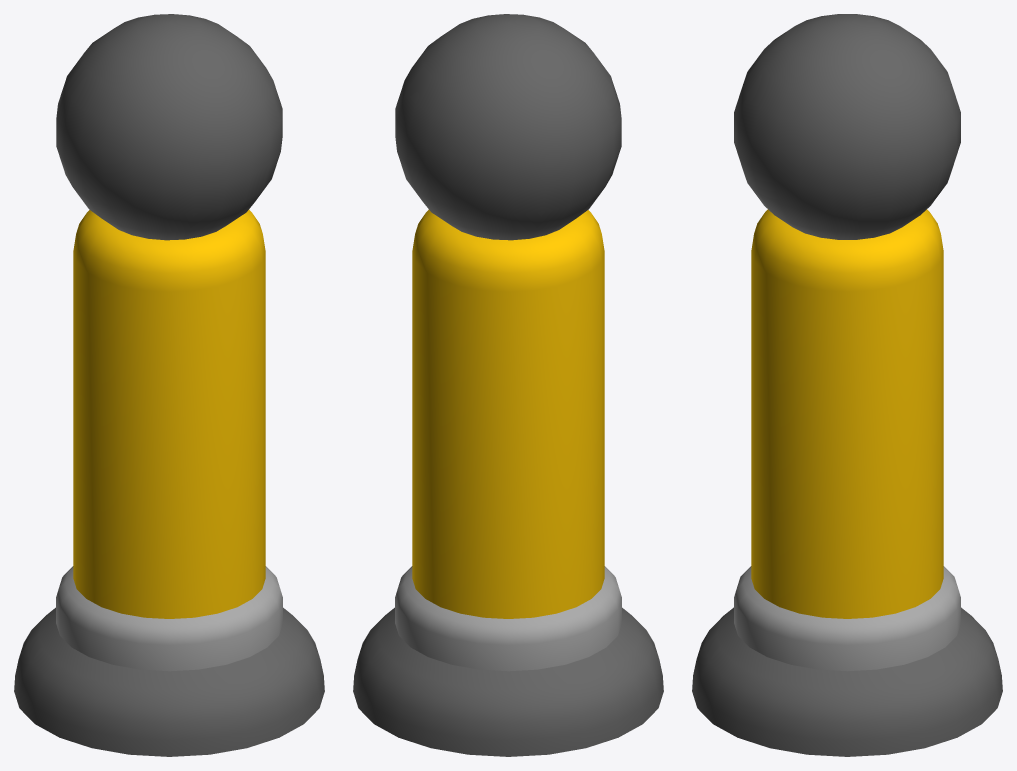
The model's file is DecorMachine_Pastry_MachineSprinkles.FBX.
3 renders of one model, left to right at view 1: azimuth 30°, elevation 25°; view 2: azimuth 150°, elevation 25°; view 3: azimuth 270°, elevation 25°, orthographic.
Visible parts, largest first — view 1: DecorMachine_Pastry_MachineSprinkles; view 2: DecorMachine_Pastry_MachineSprinkles; view 3: DecorMachine_Pastry_MachineSprinkles.
Part boxes in pixels (bbox=[...]): DecorMachine_Pastry_MachineSprinkles: bbox=[14, 14, 324, 756]; DecorMachine_Pastry_MachineSprinkles: bbox=[353, 14, 663, 756]; DecorMachine_Pastry_MachineSprinkles: bbox=[692, 14, 1002, 756].
Size of the model in its own units: 2413 by 5720 by 2413.
